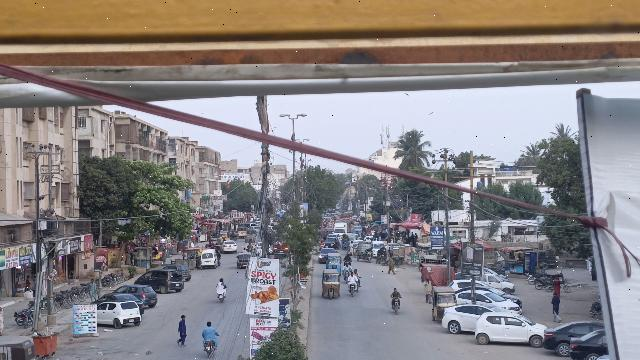Bike: (134, 268, 185, 294), (199, 340, 217, 360), (388, 296, 404, 317), (345, 282, 358, 300), (215, 290, 228, 306)
Car: (472, 310, 547, 346), (439, 301, 511, 335), (543, 320, 604, 355), (94, 300, 143, 328), (115, 283, 158, 307)
Person: (174, 312, 189, 345), (548, 290, 562, 321), (200, 320, 219, 342), (86, 277, 98, 302), (347, 269, 359, 286), (216, 278, 227, 296), (390, 286, 403, 300)
Rickshaw: (430, 284, 455, 322), (321, 269, 342, 301), (324, 250, 343, 275)
Van: (199, 249, 218, 269)
